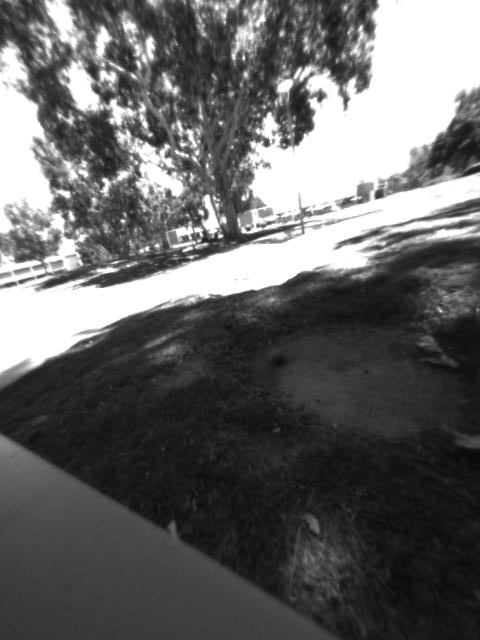dogtoy: (258, 338, 295, 372)
